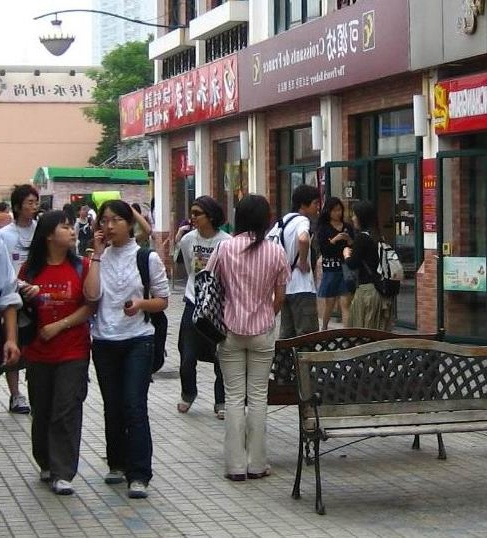person: (93, 187, 173, 506), (208, 196, 282, 484), (26, 201, 86, 505), (347, 198, 396, 347), (317, 195, 350, 321)
